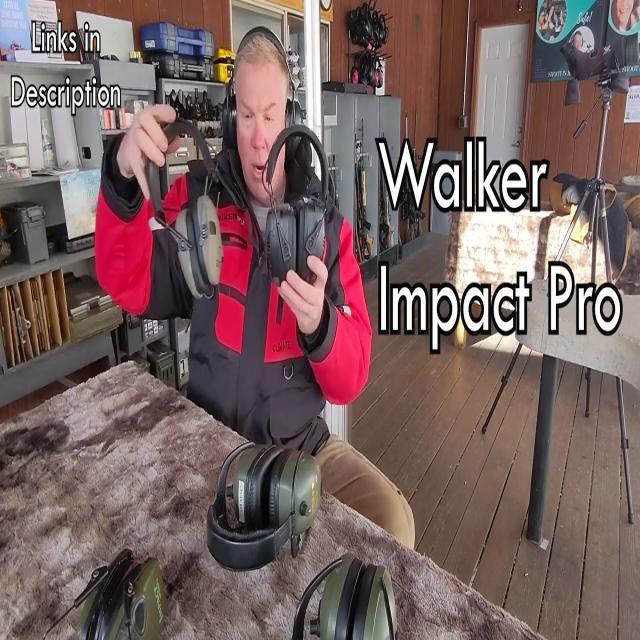earmuff: (194, 191, 228, 291), (175, 206, 208, 304), (263, 199, 297, 293), (298, 192, 330, 286), (282, 96, 309, 166), (220, 84, 237, 152)
